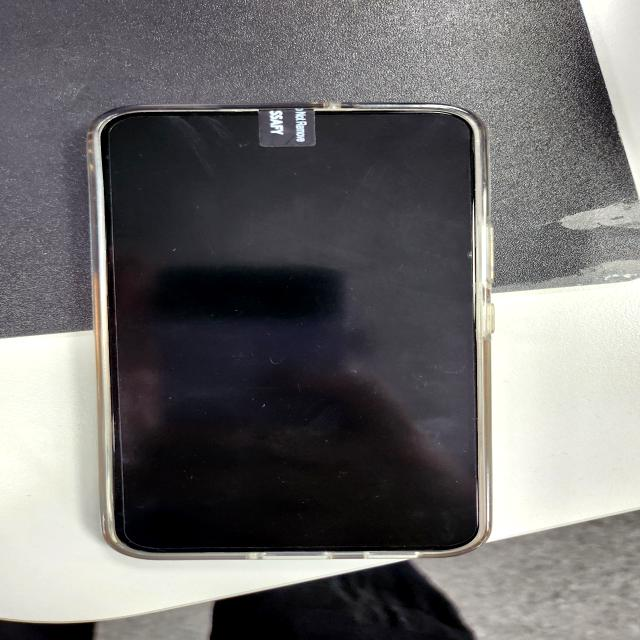phone: (94, 104, 498, 561)
sticker: (258, 108, 316, 146)
